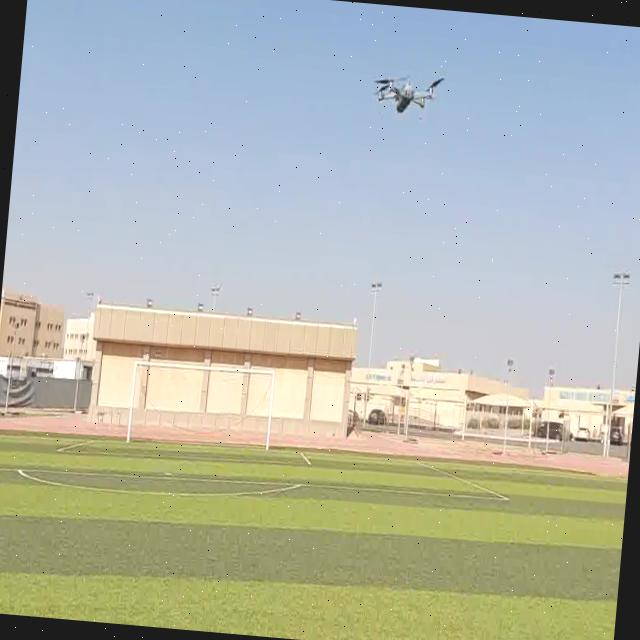drone: (368, 63, 448, 124)
